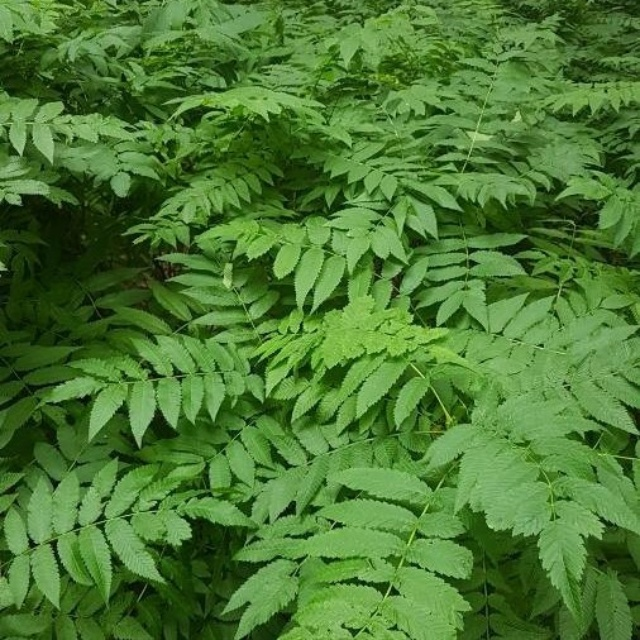obstacle: (94, 113, 594, 636)
